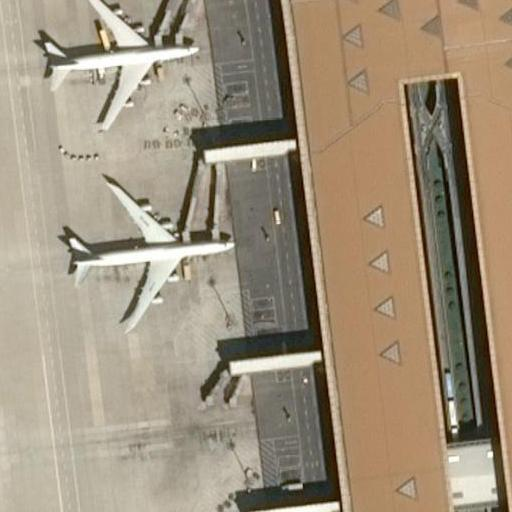Aircraft: (57, 170, 249, 327), (33, 0, 204, 122)
